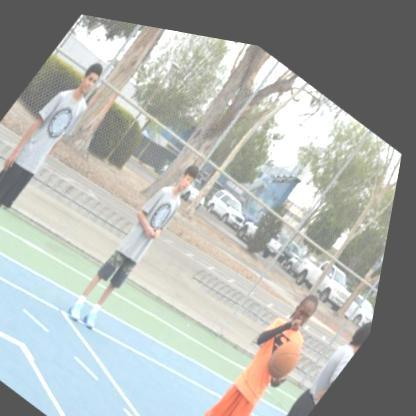basketball: (270, 319, 318, 374)
